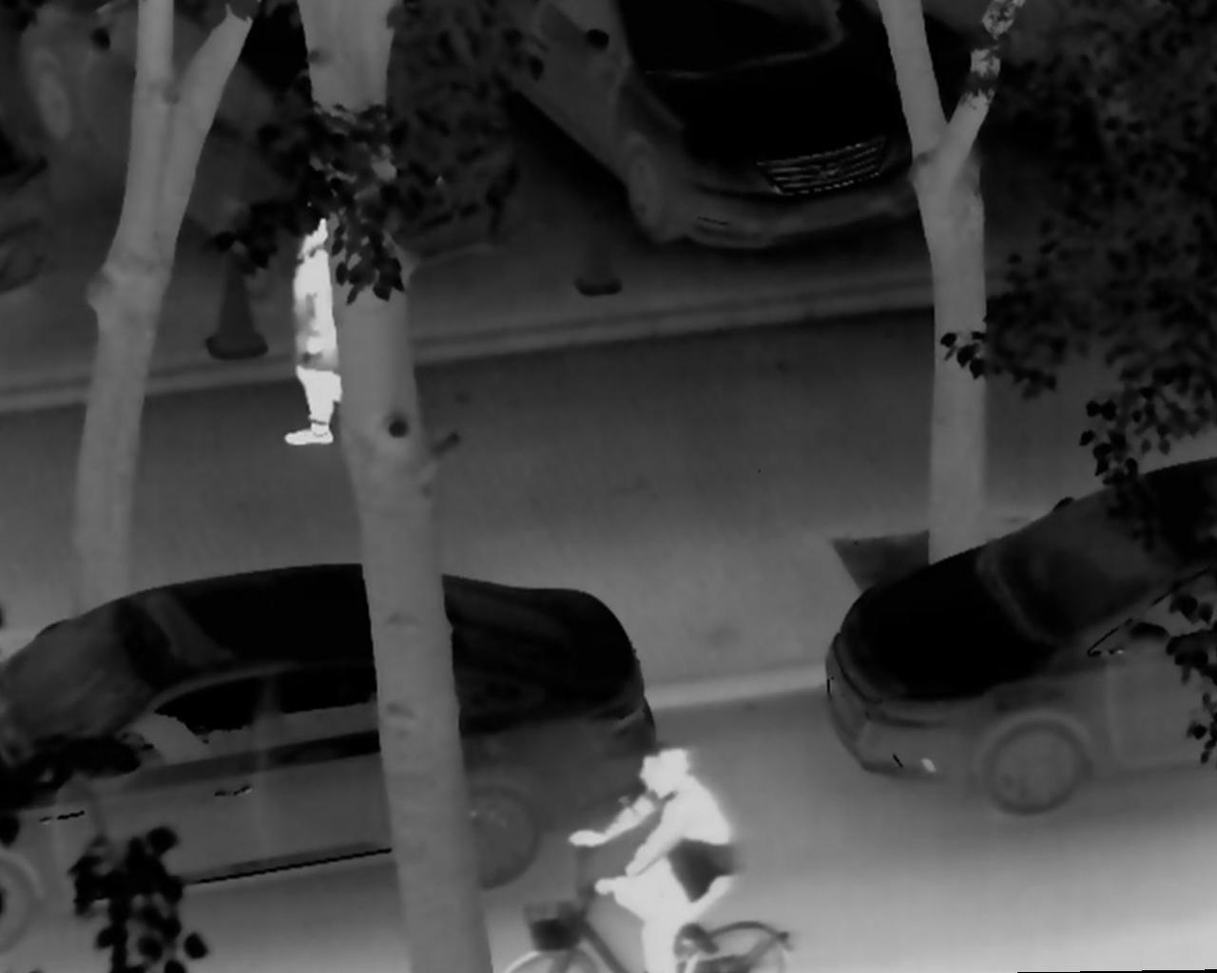person: (566, 743, 744, 973), (280, 182, 375, 450)
